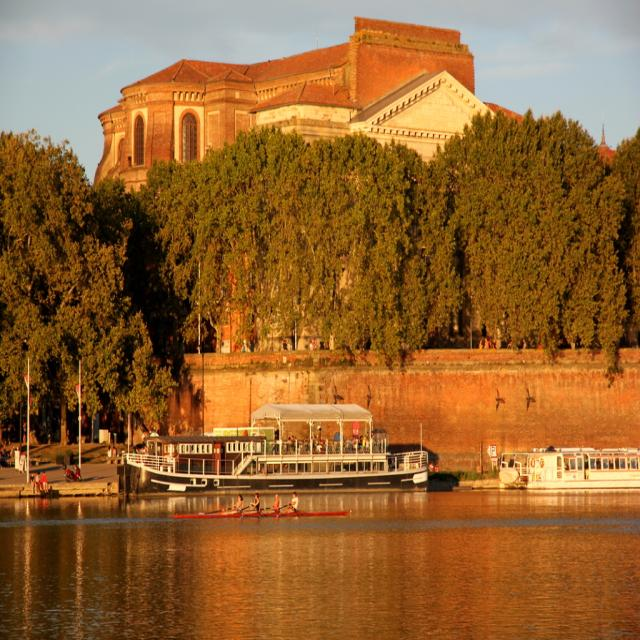Boat: (124, 398, 430, 488), (498, 444, 640, 491)
